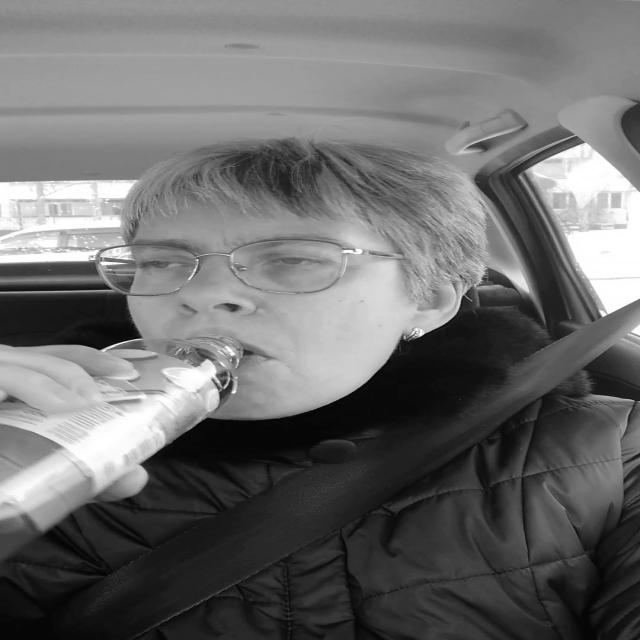Drinking: (0, 325, 253, 569)
Seatbelt: (66, 297, 640, 640)
